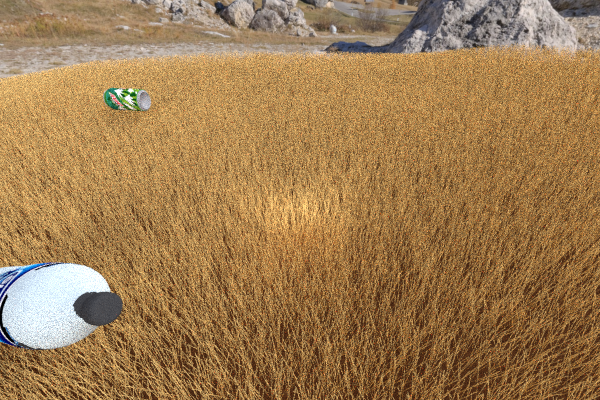bottle: (0, 262, 122, 350)
can: (103, 87, 150, 111)
